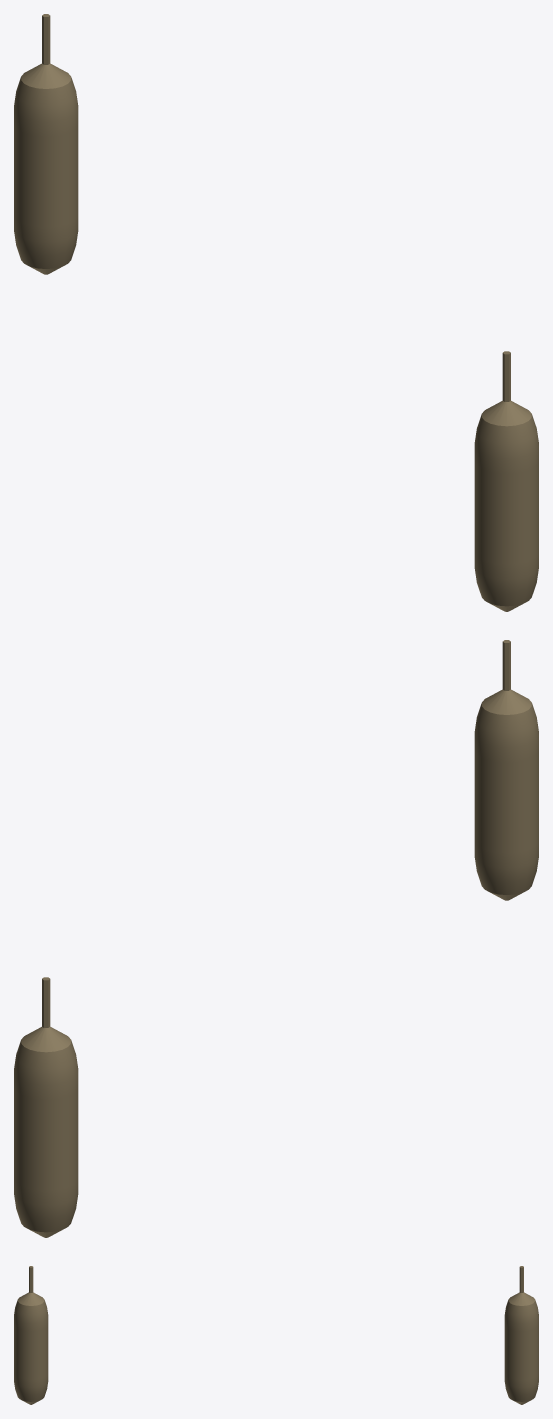
Rendered from Fenders.glb.
3 renders of one model, top to bottom at view 1: azimuth 30°, elevation 25°; view 2: azimuth 150°, elevation 25°; view 3: azimuth 270°, elevation 25°, orthographic. The views are drawn at different scales.
Parts seen in each view (by area): view 1: Fenders; view 2: Fenders; view 3: Fenders.
Part boxes in pixels (x1,y1,x2,y2): Fenders: [14, 14, 538, 611]; Fenders: [14, 640, 538, 1237]; Fenders: [14, 1266, 538, 1404].
Size of the model in its own units: 0.124 by 0.54 by 1.87.
